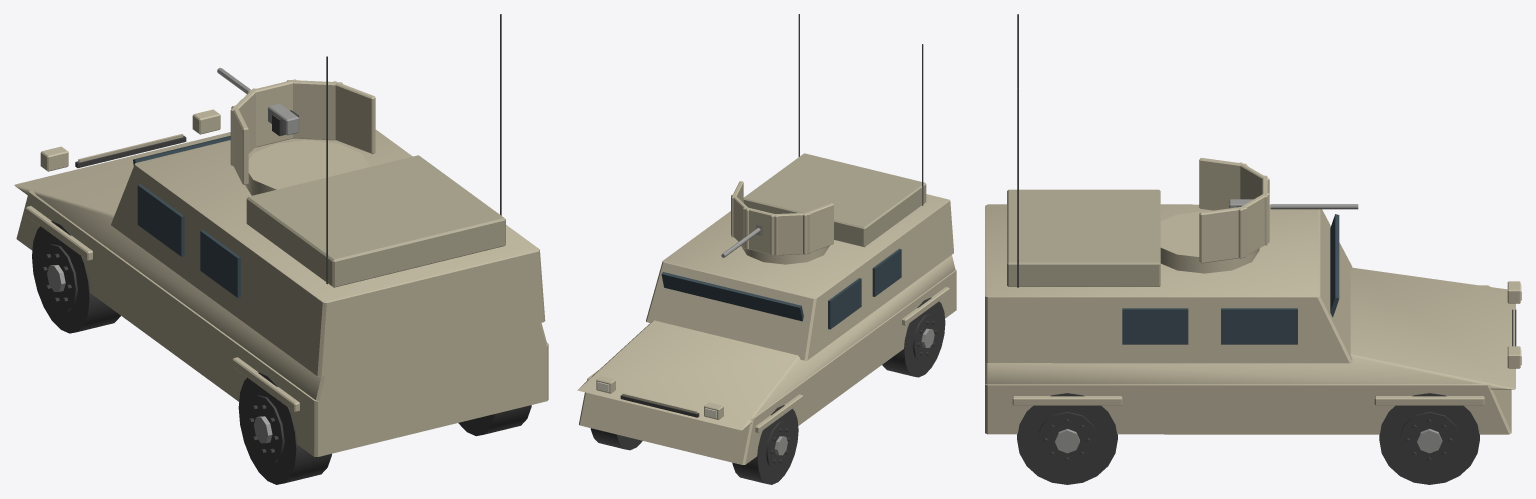
Rendered from usa_lv_m1165.glb.
The picture shows the model from 3 angles, left to right: view 1: azimuth 30°, elevation 25°; view 2: azimuth 150°, elevation 25°; view 3: azimuth 270°, elevation 25°; orthographic projection. The views are drawn at different scales.
Parts seen in each view (by area): view 1: body, turret, wheel_2, wheel_0, wheel_3, barrel; view 2: body, turret, wheel_0, wheel_2, wheel_1; view 3: body, turret, wheel_1, wheel_3, barrel.
Part boxes in pixels (<box>): body: <box>14,14,548,456</box>; turret: <box>230,79,375,195</box>; wheel_2: <box>238,372,331,484</box>; wheel_0: <box>32,221,120,333</box>; wheel_3: <box>458,405,531,436</box>; barrel: <box>217,68,299,136</box>; body: <box>577,14,956,464</box>; turret: <box>731,181,833,264</box>; wheel_0: <box>732,405,798,484</box>; wheel_2: <box>882,297,945,377</box>; wheel_1: <box>590,428,642,450</box>; body: <box>985,14,1521,434</box>; turret: <box>1160,157,1269,273</box>; wheel_1: <box>1379,393,1479,484</box>; wheel_3: <box>1017,393,1117,484</box>; barrel: <box>1229,199,1358,209</box>.
Bounding box in the file's own units: 2.3 × 3.85 × 4.89.
